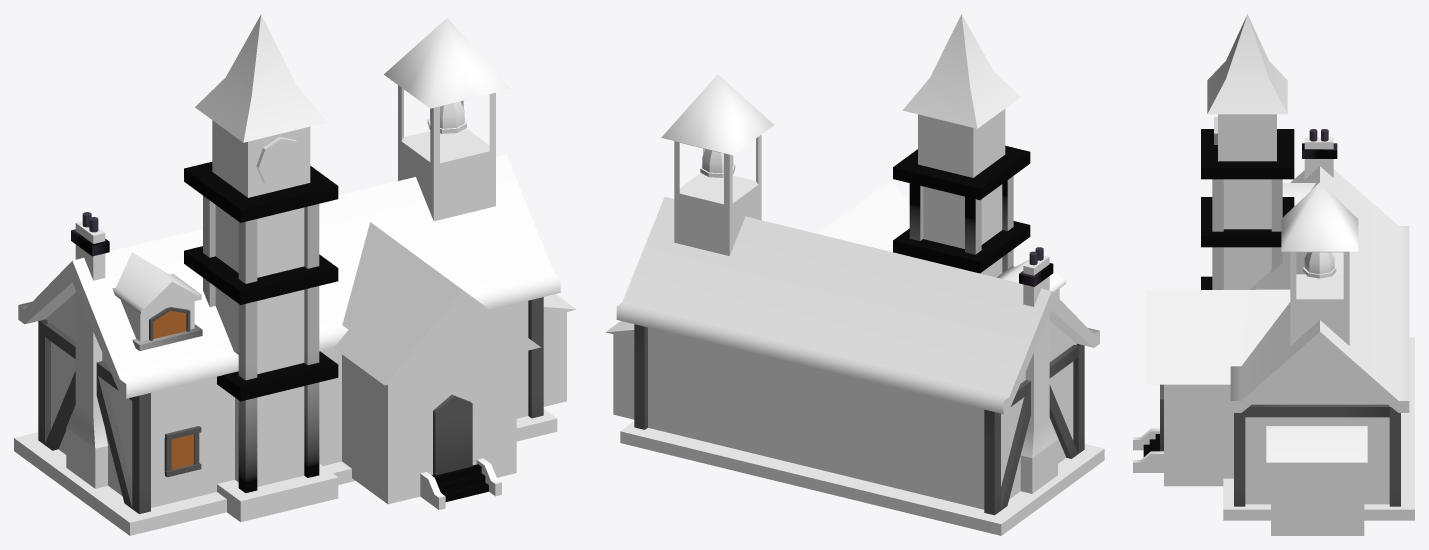
File: TownHall02.fbx
The picture shows the model from 3 angles, left to right: view 1: azimuth 30°, elevation 25°; view 2: azimuth 150°, elevation 25°; view 3: azimuth 270°, elevation 25°; orthographic projection. The views are drawn at different scales.
Parts seen in each view (by area): view 1: polySurface284; view 2: polySurface284; view 3: polySurface284.
Boxes of the visible parts, bbox=[...] form: polySurface284: bbox=[14, 14, 576, 535]; polySurface284: bbox=[605, 14, 1104, 535]; polySurface284: bbox=[1133, 14, 1414, 535].
Bounding box in the file's own units: 571 × 554 × 357.
1 material, 1 textured.
